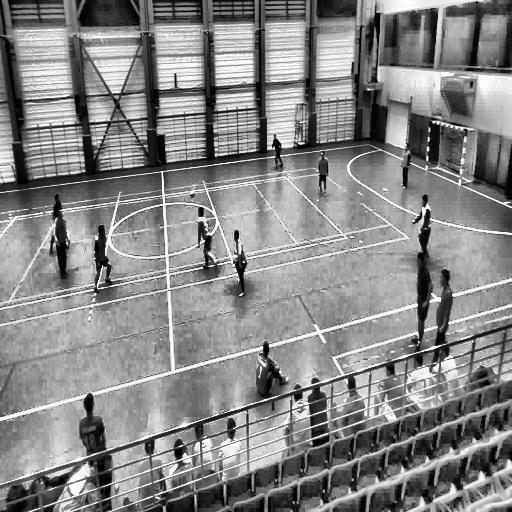ball: (188, 188, 196, 200)
player: (256, 342, 288, 412), (414, 252, 432, 344), (434, 268, 453, 344), (196, 207, 218, 271), (48, 190, 69, 255), (93, 224, 113, 291), (52, 206, 70, 280), (231, 229, 248, 297), (413, 194, 431, 258), (318, 149, 330, 196), (270, 132, 284, 170), (400, 142, 411, 190)
